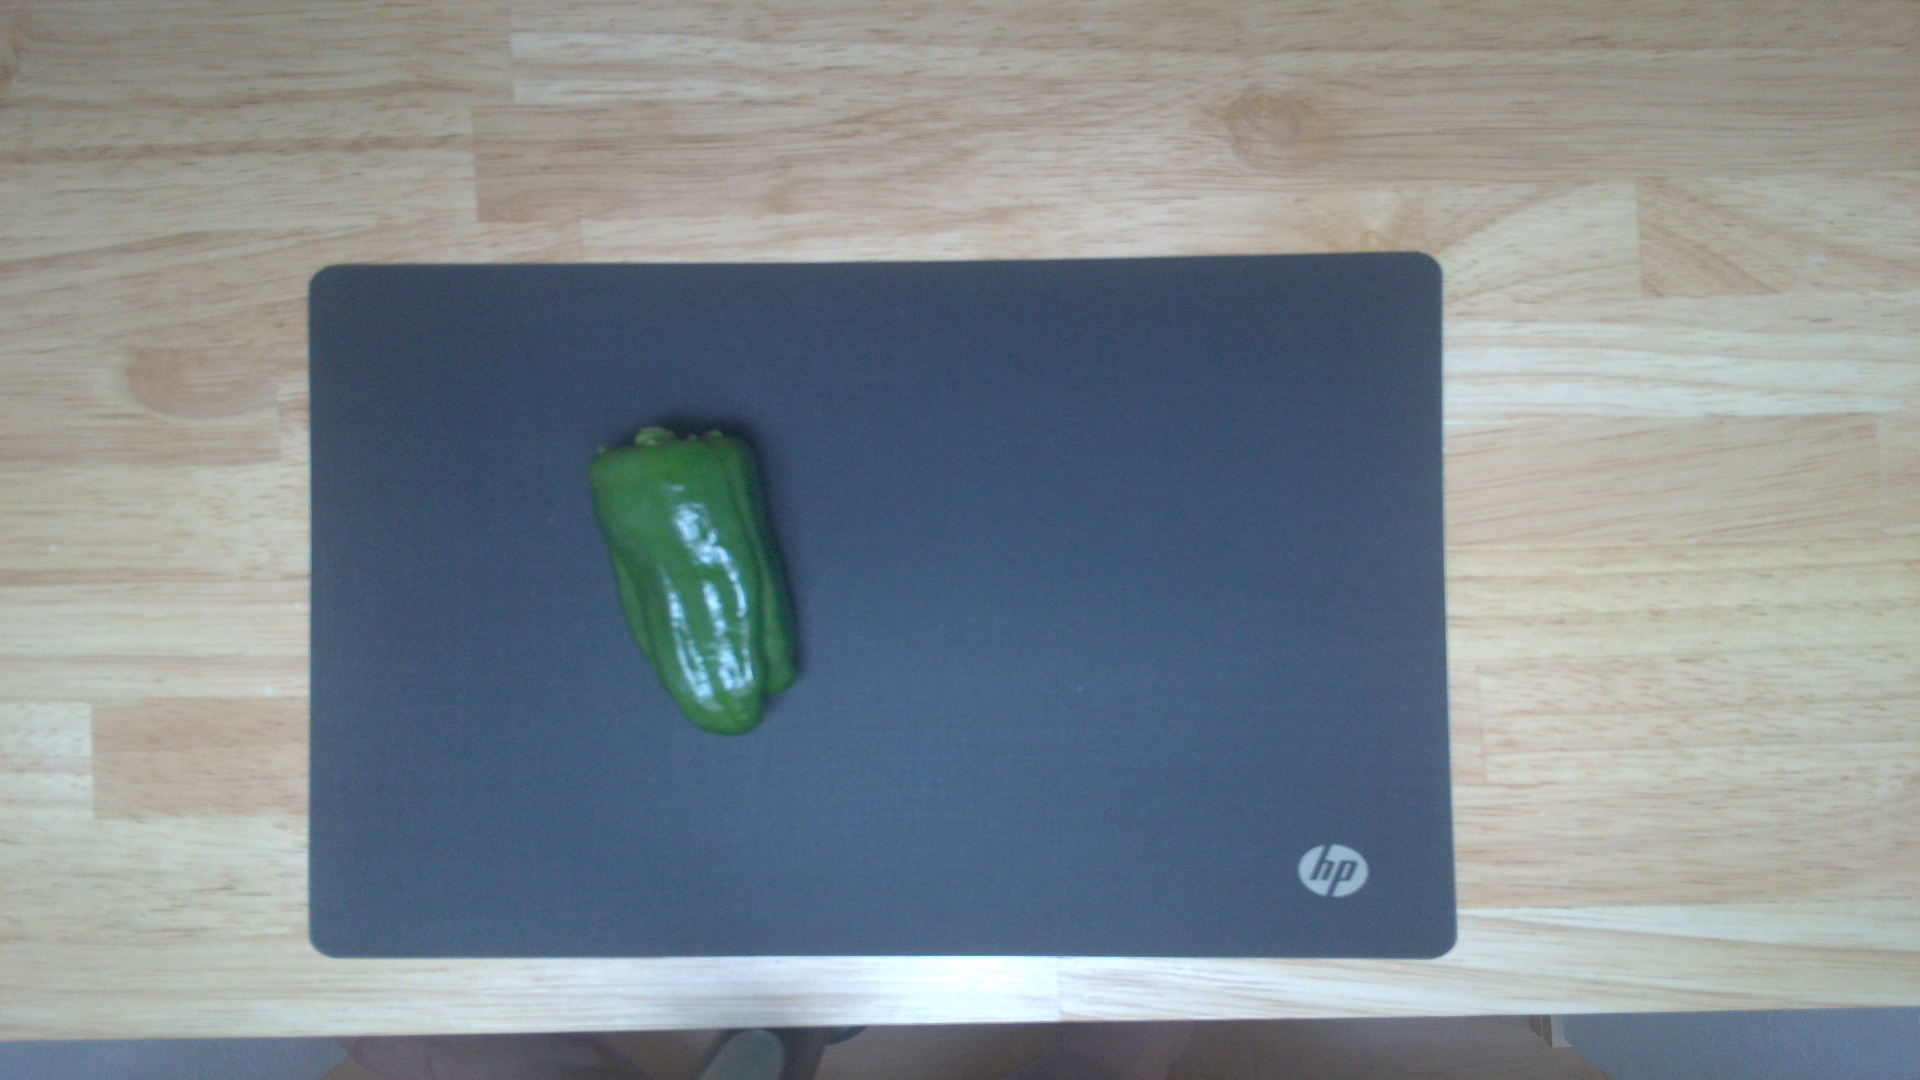Piman: (589, 415, 804, 735)
